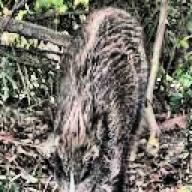boar: (42, 4, 150, 192)
